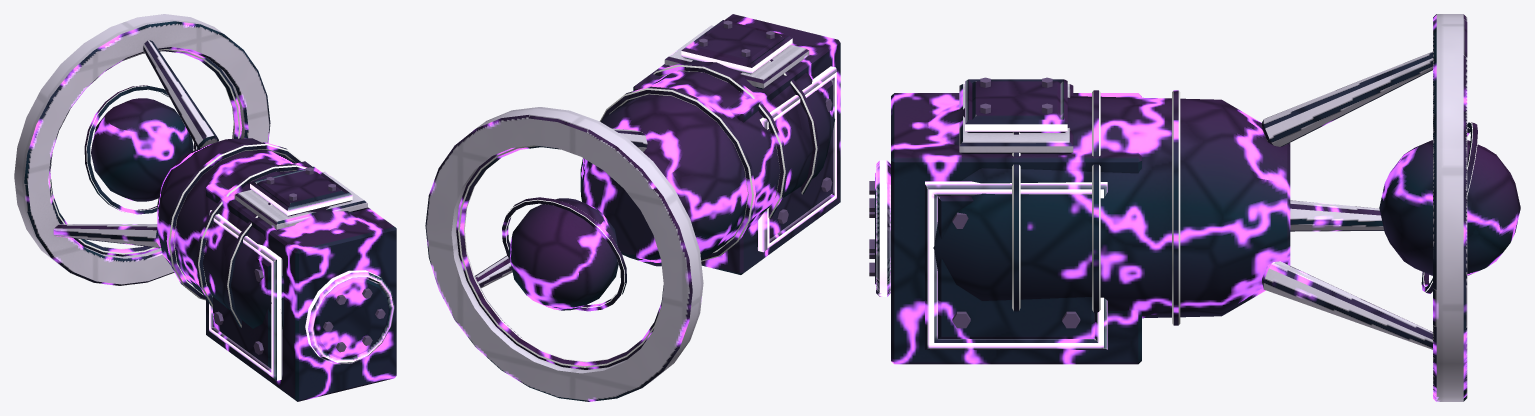
File: desintegrador_t5.fbx
The picture shows the model from 3 angles, left to right: view 1: azimuth 30°, elevation 25°; view 2: azimuth 150°, elevation 25°; view 3: azimuth 270°, elevation 25°; orthographic projection. The views are drawn at different scales.
Visible parts, largest first — view 1: desintegrador_t5, desintegrador_t5_neon, desintegrador_t5_neon2; view 2: desintegrador_t5, desintegrador_t5_neon, desintegrador_t5_neon2; view 3: desintegrador_t5, desintegrador_t5_neon.
Boxes of the visible parts, x1,y1,x2,y2 form: desintegrador_t5: (14, 14, 396, 401); desintegrador_t5_neon: (49, 49, 305, 327); desintegrador_t5_neon2: (86, 85, 196, 214); desintegrador_t5: (425, 14, 840, 401); desintegrador_t5_neon: (458, 60, 817, 367); desintegrador_t5_neon2: (502, 199, 625, 311); desintegrador_t5: (869, 14, 1520, 401); desintegrador_t5_neon: (1012, 91, 1180, 324).
Size of the model in its own units: 3.4 by 3.4 by 5.71.
